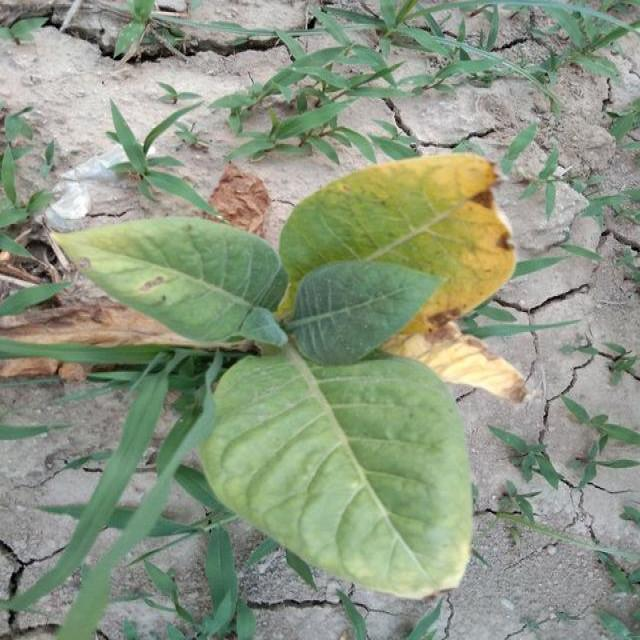crop: (66, 163, 514, 597)
